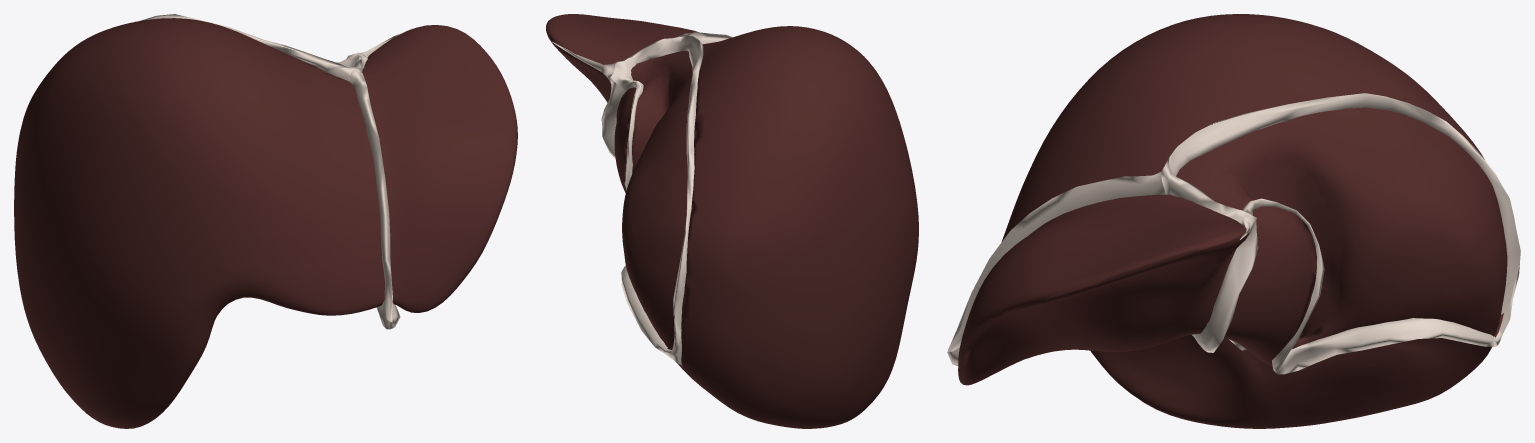
Rendered from vh_m_liver-80.glb.
3 views of the same model, side by side, from view 1: azimuth 30°, elevation 25°; view 2: azimuth 150°, elevation 25°; view 3: azimuth 270°, elevation 25° (orthographic). The views are drawn at different scales.
Parts seen in each view (by area): view 1: VH_M_liver_capsule, VH_M_falciform_ligament, VH_M_coronary_ligament_of_liver; view 2: VH_M_liver_capsule, VH_M_bare_area_of_liver, VH_M_coronary_ligament_of_liver, VH_M_caudate_lobe_of_liver, VH_M_ligamentum_venosum, VH_M_right_posterosuperior_segment, VH_M_triangular_ligament_of_liver, VH_M_right_posteroinferior_segment; view 3: VH_M_liver_capsule, VH_M_bare_area_of_liver, VH_M_coronary_ligament_of_liver, VH_M_caudate_lobe_of_liver, VH_M_falciform_ligament, VH_M_ligamentum_venosum, VH_M_right_posterosuperior_segment, VH_M_diaphragmatic_surface.
Part boxes in pixels (x1,y1,x2,y2): VH_M_liver_capsule: [14, 18, 517, 428]; VH_M_falciform_ligament: [349, 70, 393, 321]; VH_M_coronary_ligament_of_liver: [140, 14, 367, 81]; VH_M_liver_capsule: [546, 14, 918, 428]; VH_M_bare_area_of_liver: [622, 50, 692, 347]; VH_M_coronary_ligament_of_liver: [610, 35, 703, 365]; VH_M_caudate_lobe_of_liver: [632, 54, 689, 125]; VH_M_ligamentum_venosum: [601, 78, 626, 158]; VH_M_right_posterosuperior_segment: [627, 117, 687, 311]; VH_M_triangular_ligament_of_liver: [552, 41, 616, 82]; VH_M_right_posteroinferior_segment: [644, 310, 674, 345]; VH_M_liver_capsule: [958, 14, 1503, 428]; VH_M_bare_area_of_liver: [1176, 107, 1507, 344]; VH_M_coronary_ligament_of_liver: [1161, 93, 1520, 374]; VH_M_caudate_lobe_of_liver: [1190, 148, 1341, 348]; VH_M_falciform_ligament: [947, 172, 1165, 351]; VH_M_ligamentum_venosum: [1192, 220, 1258, 352]; VH_M_right_posterosuperior_segment: [1339, 108, 1495, 308]; VH_M_diaphragmatic_surface: [1226, 165, 1496, 345].
Bounding box in the file's own units: 0.1914 × 0.1746 × 0.2018.
